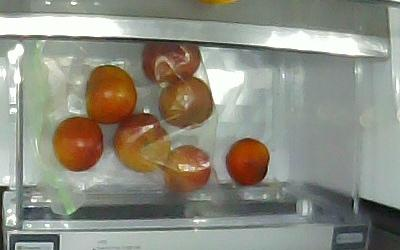prune: (85, 65, 138, 124), (52, 116, 103, 172), (226, 138, 270, 186)
prune_vinyl: (114, 114, 171, 172), (160, 77, 213, 128), (140, 40, 200, 83), (164, 145, 211, 192)
